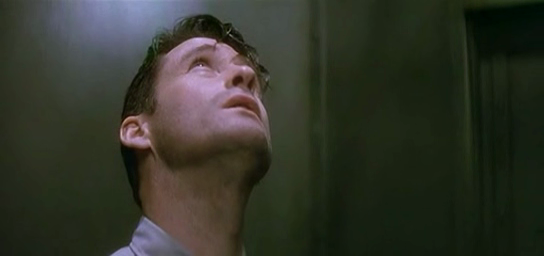cu: (1, 1, 544, 256)
face: (156, 37, 271, 167)
person: (108, 13, 271, 256)
